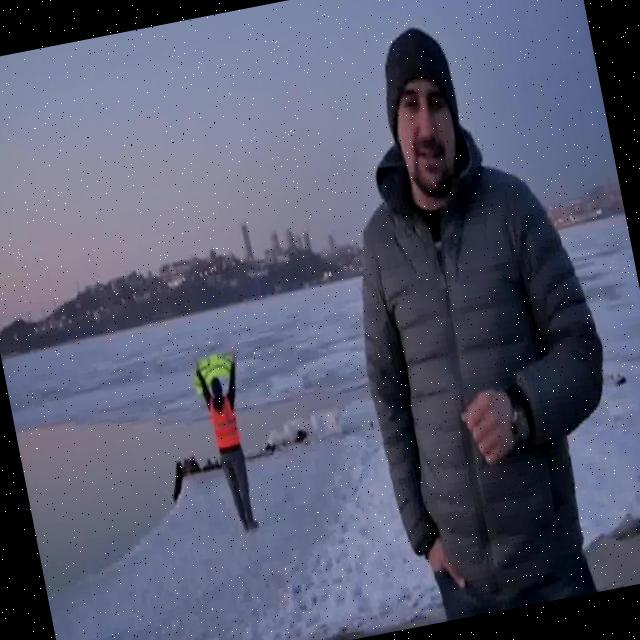vest: (190, 350, 244, 398), (207, 393, 244, 452)
